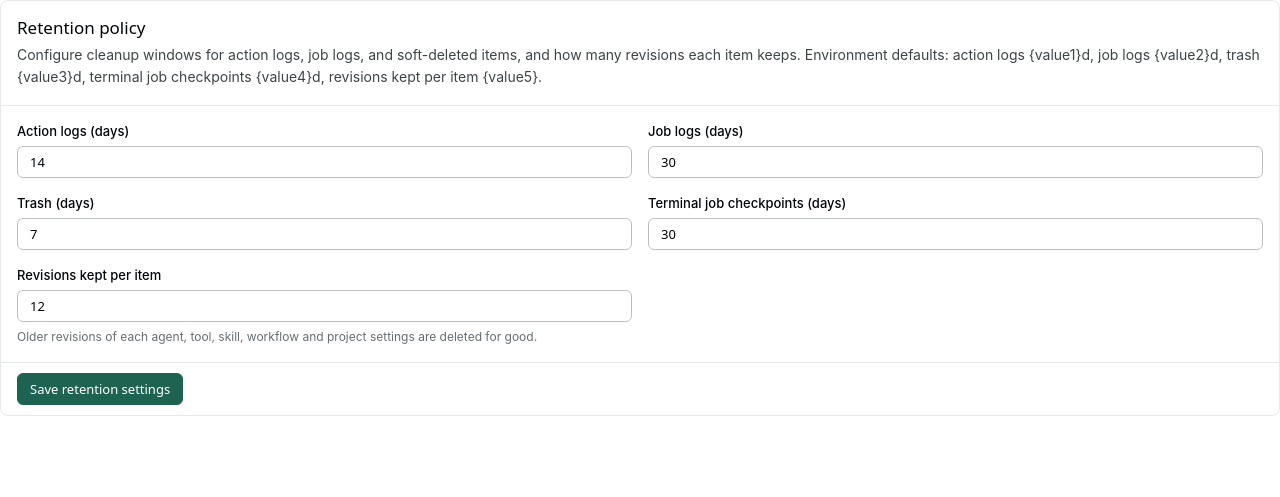
Test case: SettingsRetentionPage › announces a successful save as success after translating its message
Expected: the number field labelled "Revisions kept per item" holds "12", [17,290,632,322]
Click the button "Save retention settings" at (100, 389), box [17,373,183,405]
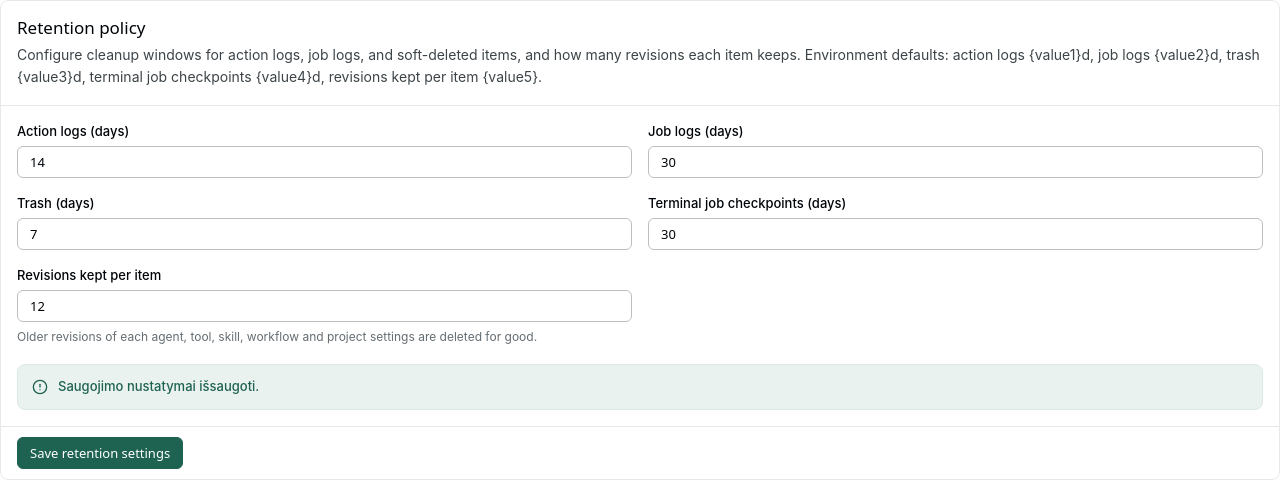
Now the element showing "Saugojimo nustatymai išsaugoti." is shown, box [58,378,259,394]
